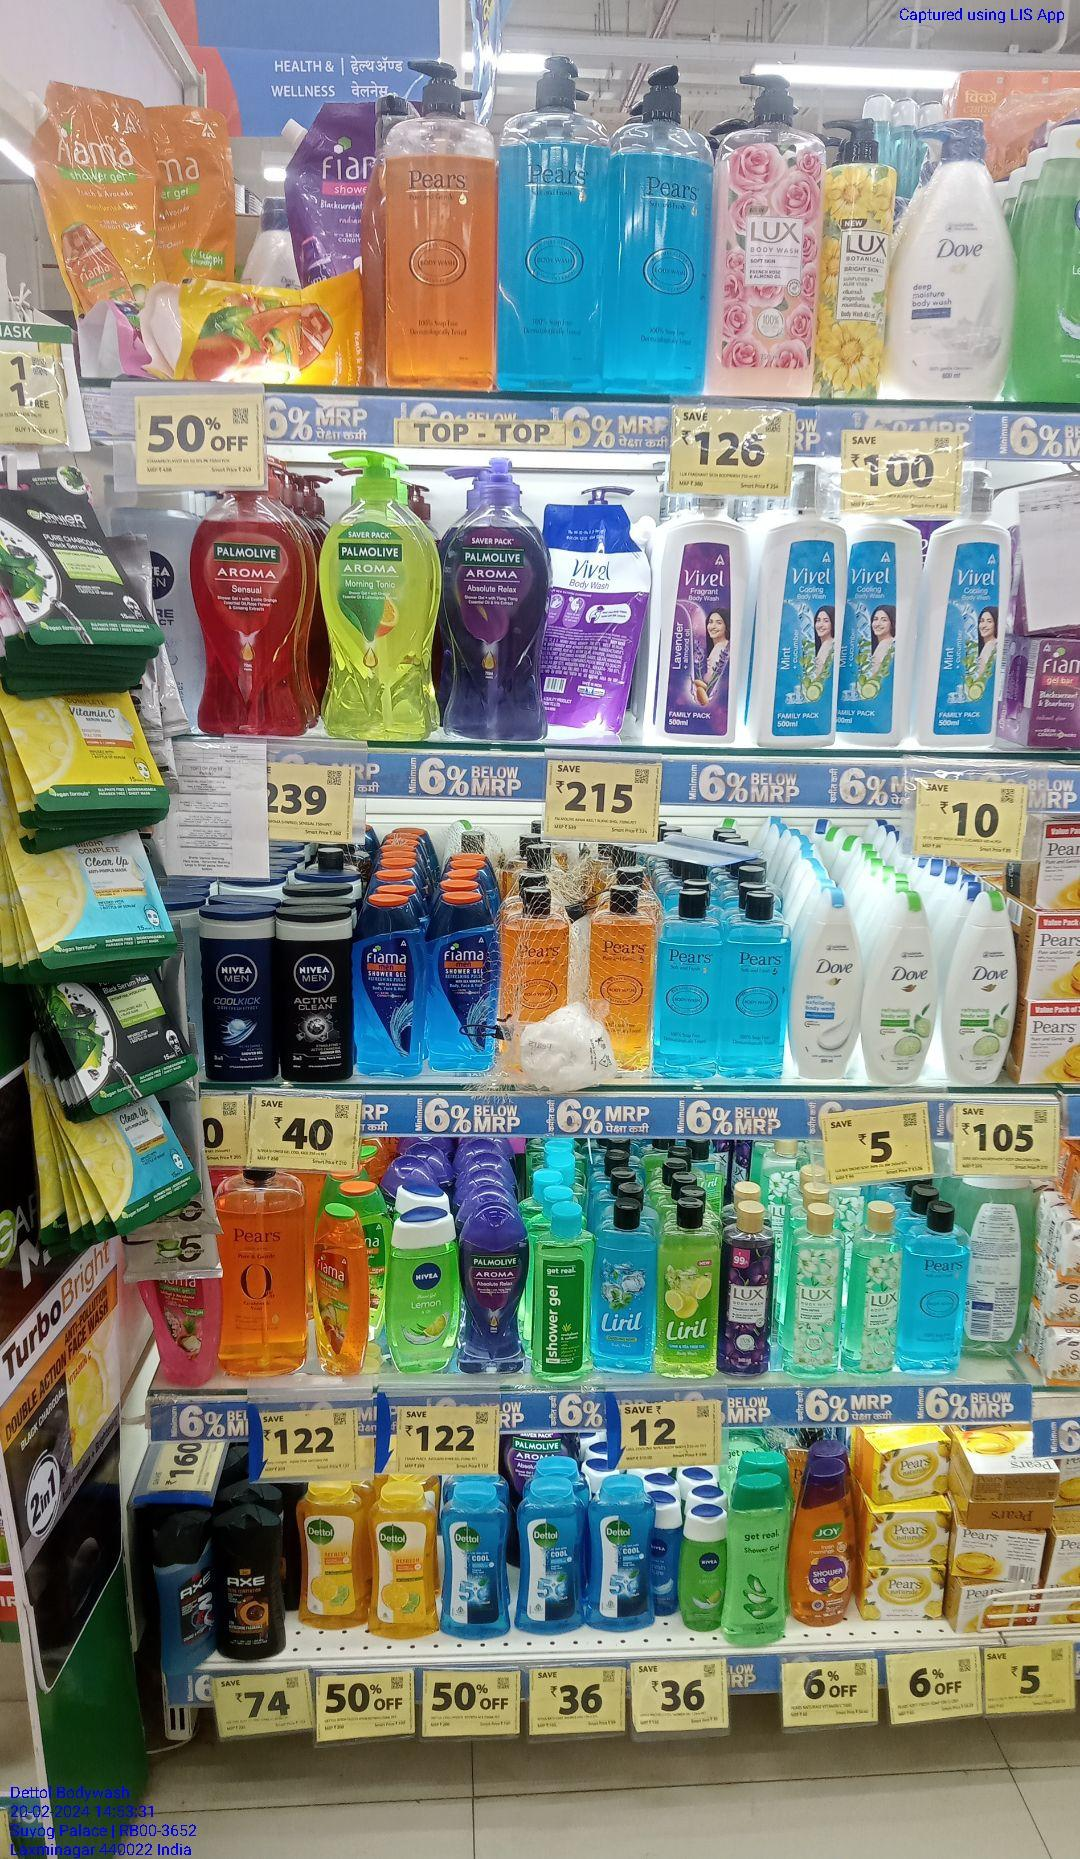Dettol_Bodywash_Cool: (438, 1473, 510, 1640), (586, 1478, 656, 1634), (518, 1486, 584, 1634)
Dettol_Bodywash_Refresh: (297, 1484, 369, 1628), (374, 1482, 433, 1640)
Dove_Gentle_Exfoliating_Body_Wash_250ML: (792, 896, 861, 1076)
Dove_Refreshing_Body_Wash_250ML: (945, 888, 1017, 1085), (865, 896, 937, 1082)
Fiama_Shower_Gel_Peach_and_Avocado_250ML: (311, 1211, 365, 1374)
Joy_Shower_Gel_Mandarin_and_Lemongrass_250ML: (789, 1459, 858, 1628)
Liril_Cooling_Mint_Body_Wash_250ML: (595, 1198, 654, 1358)
Liril_Lime_and_Tea_Tree_Oil_Body_Wash_250ML: (660, 1197, 716, 1378)
Lux_Black_Orchid_Scent_and_Juniper_Oil_Body_Wash_245ML: (721, 1198, 771, 1376)
Lux_Body_Wash_Skin_Detox_Freesia_Scent_and_Alove_Vera_245ML: (779, 1202, 840, 1377), (847, 1202, 897, 1376)
Nivea_Shower_Gel_Lemon_and_Oil_250ML: (387, 1215, 459, 1372)
Palmolive_Aroma_Relax_250ML: (460, 1210, 528, 1373)
Pears_Pure_Glycerin_and_Mint_Extracts_Body_Wash_250ML: (720, 888, 788, 1079), (654, 870, 715, 1072), (901, 1199, 963, 1374)
